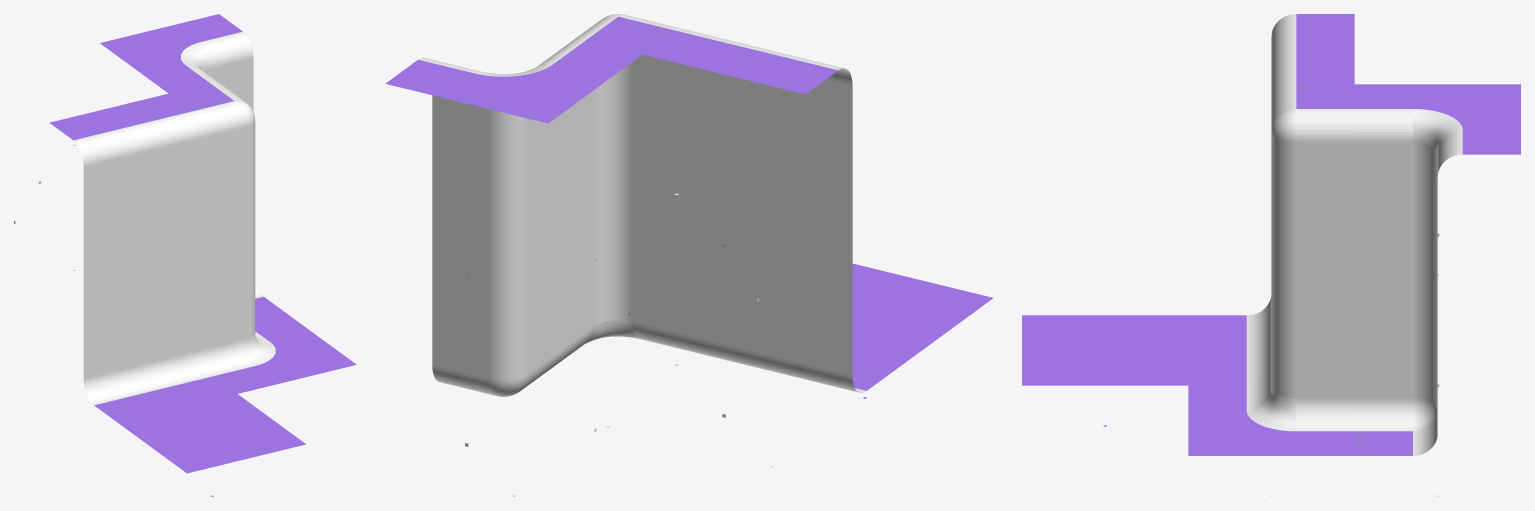
Rendered from WaveFunctionCollapse1.fbx.
3 views of the same model, side by side, from view 1: azimuth 30°, elevation 25°; view 2: azimuth 150°, elevation 25°; view 3: azimuth 270°, elevation 25° (orthographic). The views are drawn at different scales.
Parts seen in each view (by area): view 1: Mesh10, Mesh1, Mesh4, Mesh2, Mesh9, Mesh6, Mesh5, Mesh7, Mesh3; view 2: Mesh10, Mesh8, Mesh5, Mesh6, Mesh1, Mesh4, Mesh2, Mesh3, Mesh9, Mesh7; view 3: Mesh6, Mesh2, Mesh5, Mesh8, Mesh9, Mesh3, Mesh7, Mesh4, Mesh1.
Boxes of the visible parts, x1,y1,x2,y2 form: Mesh10: (83,181,202,335); Mesh1: (83,306,236,446); Mesh4: (49,93,202,210); Mesh2: (203,289,356,393); Mesh9: (118,394,305,496); Mesh6: (100,14,253,103); Mesh5: (203,164,255,305); Mesh7: (169,83,255,181); Mesh3: (255,283,287,322); Mesh10: (689,105,852,315); Mesh8: (432,120,596,320); Mesh5: (561,90,689,290); Mesh6: (385,40,641,150); Mesh1: (689,276,898,467); Mesh4: (643,28,852,145); Mesh2: (555,260,695,427); Mesh3: (432,291,596,496); Mesh9: (852,263,993,398); Mesh7: (561,14,689,119); Mesh6: (1354,84,1520,203); Mesh2: (1188,335,1354,496); Mesh5: (1271,184,1354,345); Mesh8: (1354,194,1437,353); Mesh9: (1022,315,1188,426); Mesh3: (1354,345,1439,496); Mesh7: (1271,84,1354,194); Mesh4: (1271,14,1354,106); Mesh1: (1188,296,1271,385).
Size of the model in its own units: 400 by 500 by 600.
